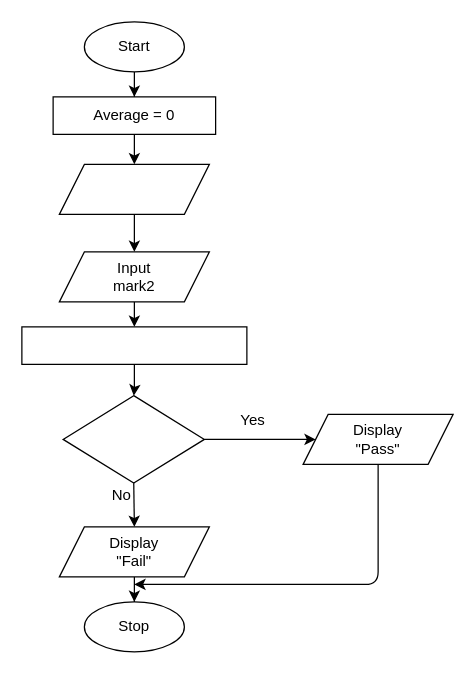
The diagram is 475 pixels wide and 674 high, and some of its shapes have lost their labels. The centre of each missing label's shape, as x and y in pixels:
Average = (mark1 + mark2)/2.0: the point at 134,345
If Average>45: the point at 133,438
Input mark1: the point at 133,188
